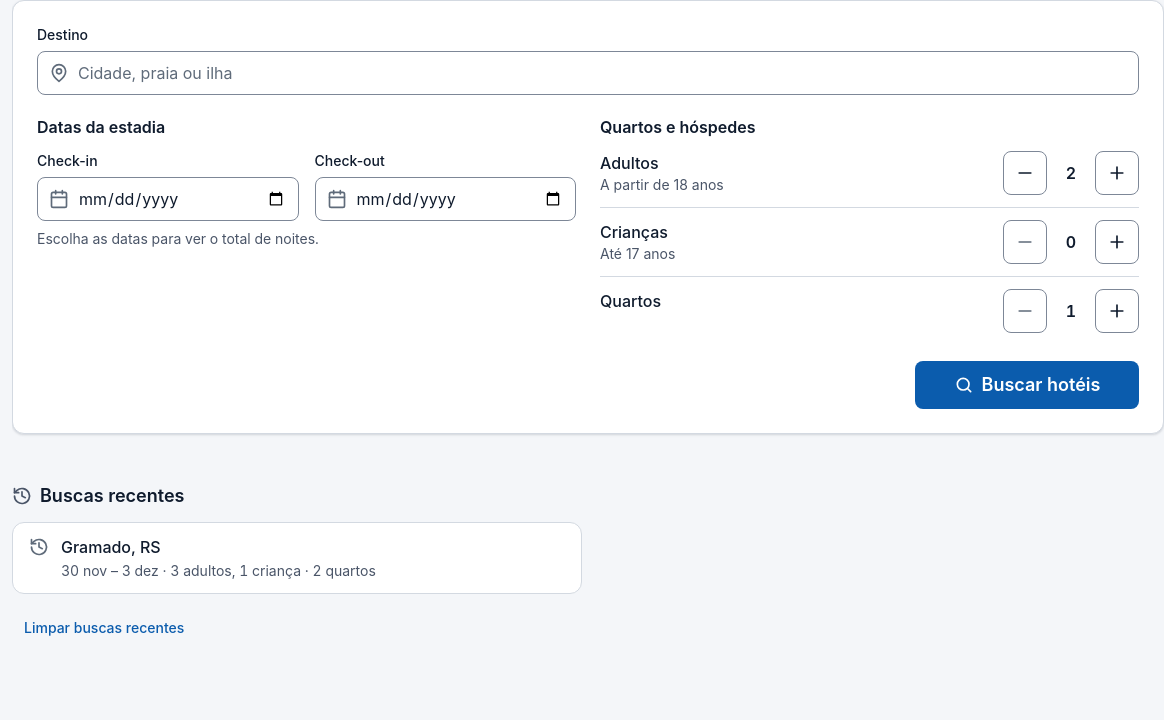
Test case: RecentSearches › datas futuras: preenche o formulário inteiro, foca 'Buscar hotéis' e anuncia
Click the button "Gramado, RS": (111, 547) [12, 522, 582, 594]
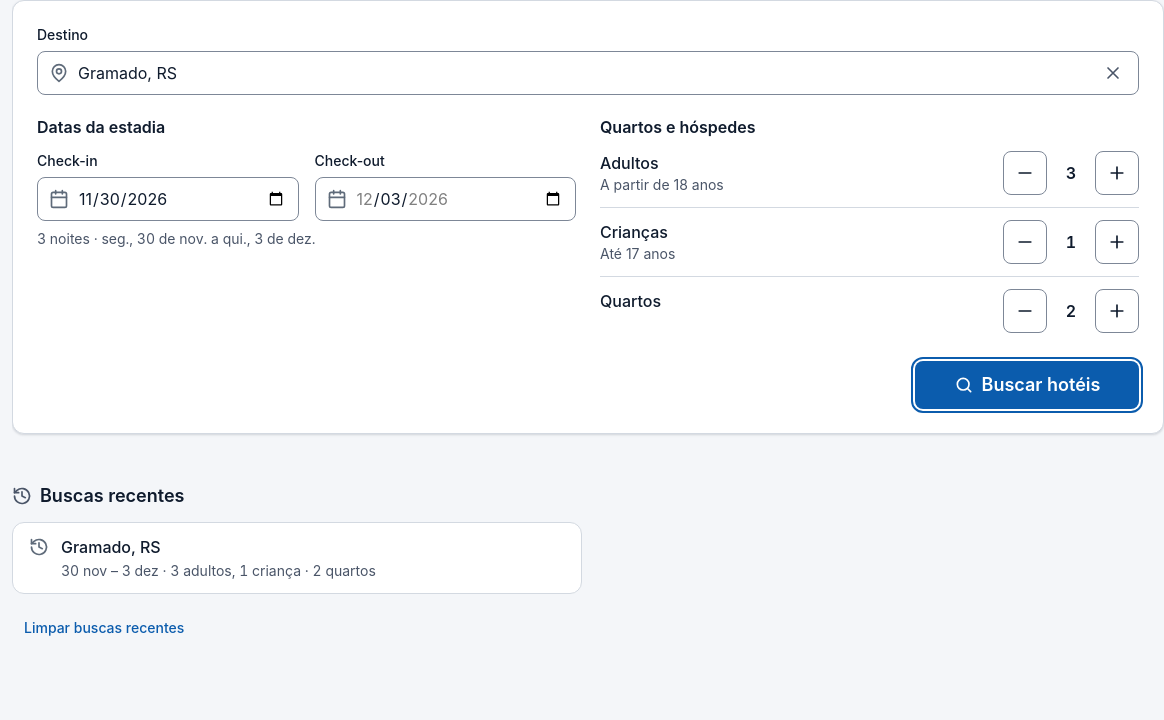
Result: the dropdown labelled "Destino" holds "Gramado, RS" at [37, 51, 1139, 95]
Result: the element "Quartos" shows "2" at [1066, 301, 1076, 321]
